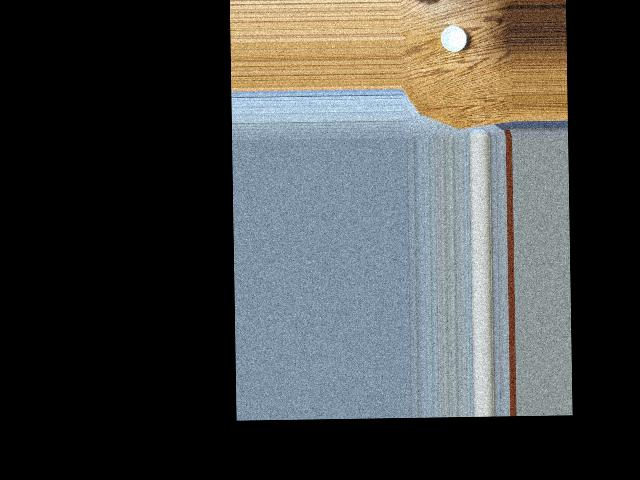cotage: (436, 20, 466, 54)
